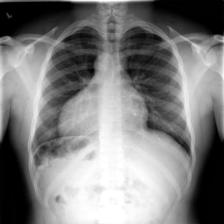normal: (28, 19, 194, 175)
